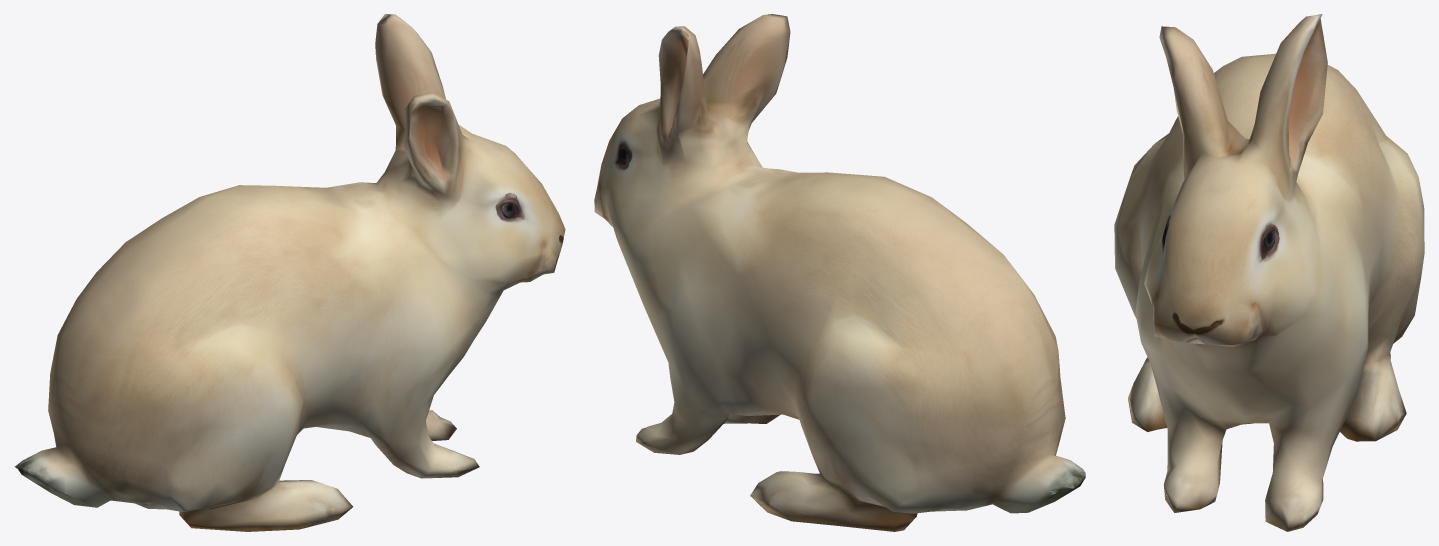
File: rabbit_white_single_1500.glb
3 renders of one model, left to right at view 1: azimuth 30°, elevation 25°; view 2: azimuth 150°, elevation 25°; view 3: azimuth 270°, elevation 25°, orthographic. The views are drawn at different scales.
Bounding box in the file's own units: 0.8827 × 0.7039 × 0.4059.
1 material, 1 textured.
